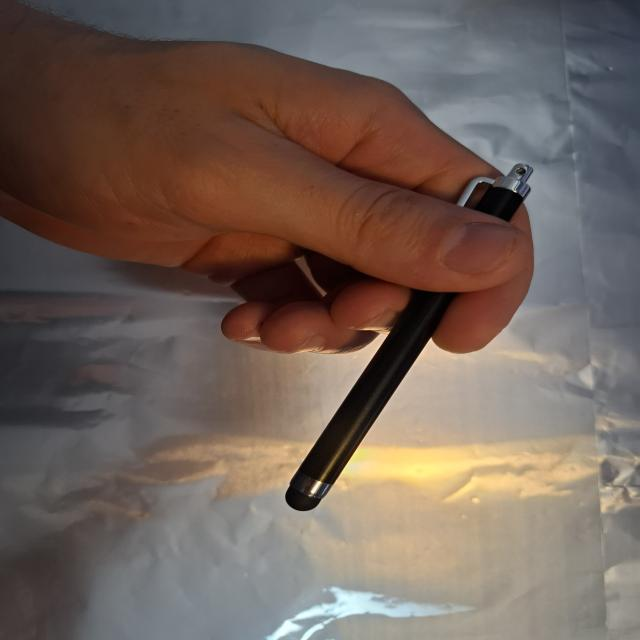glove_off: (10, 19, 538, 356)
